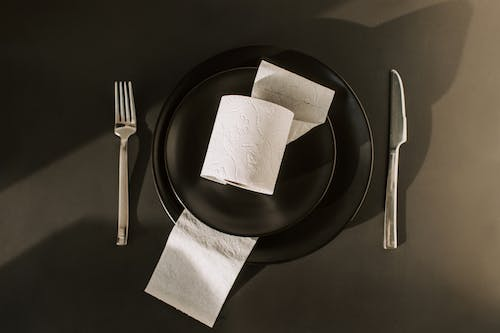knife: (381, 67, 409, 250)
